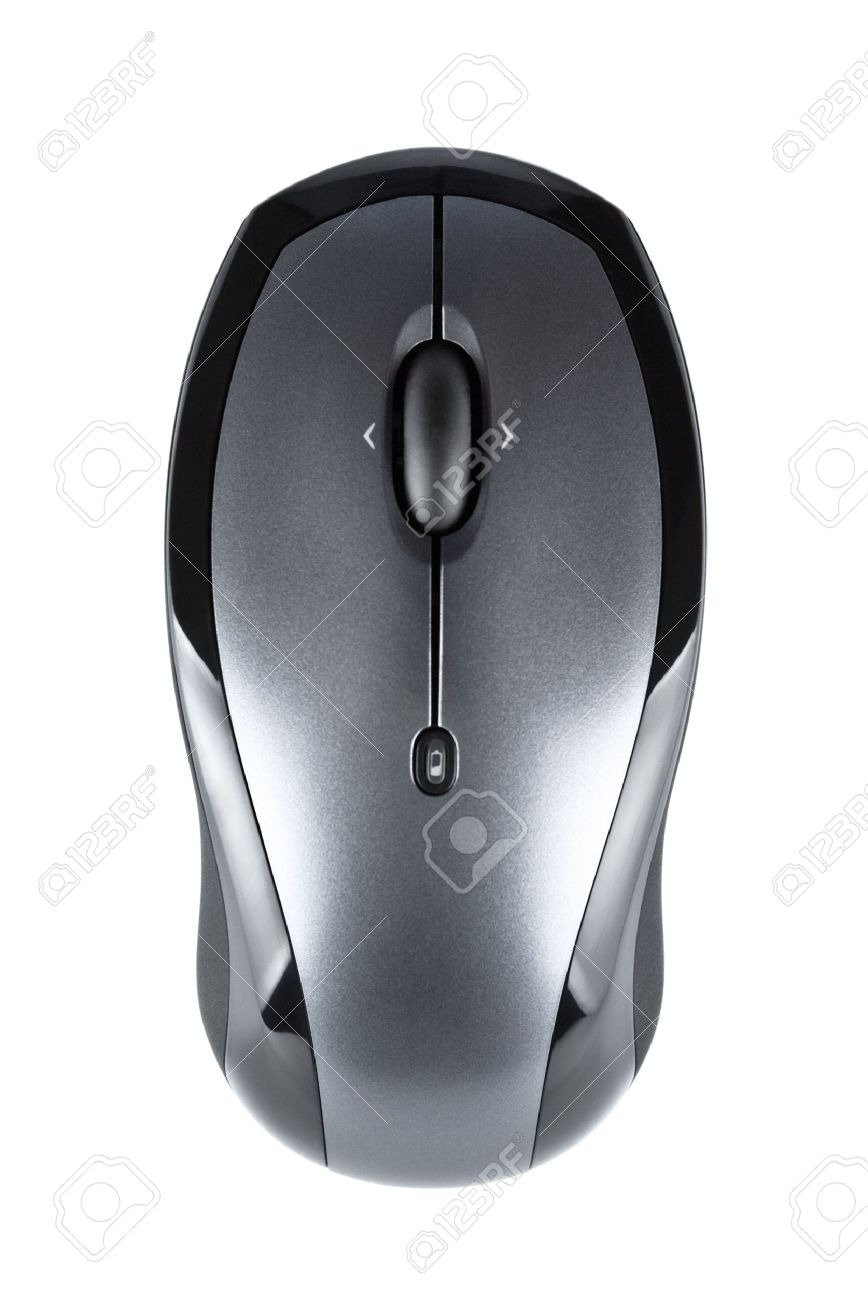mouse: (134, 135, 718, 1216)
